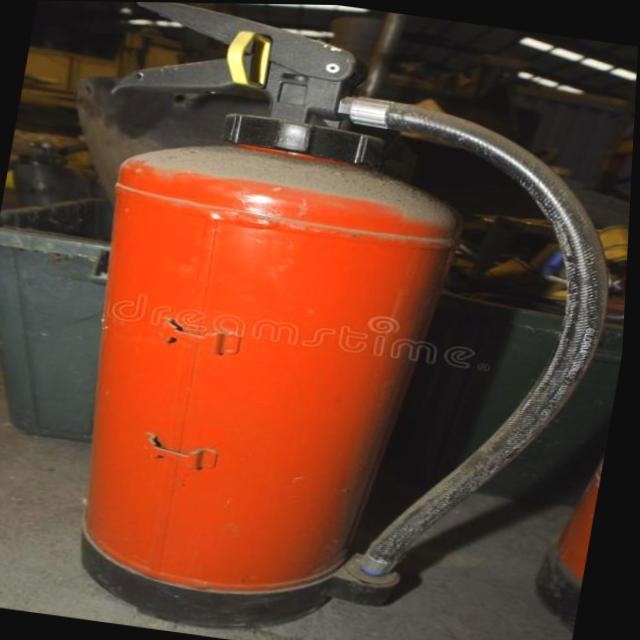FireExtinguisher: (9, 0, 640, 640)
